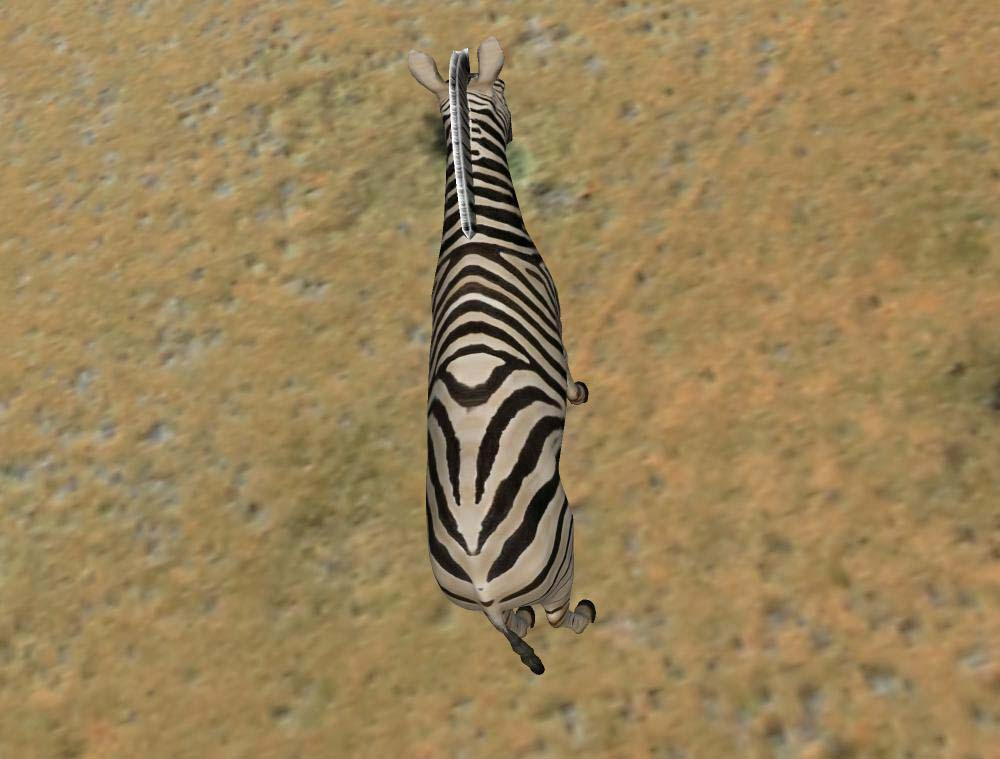zebra: (404, 37, 607, 678)
